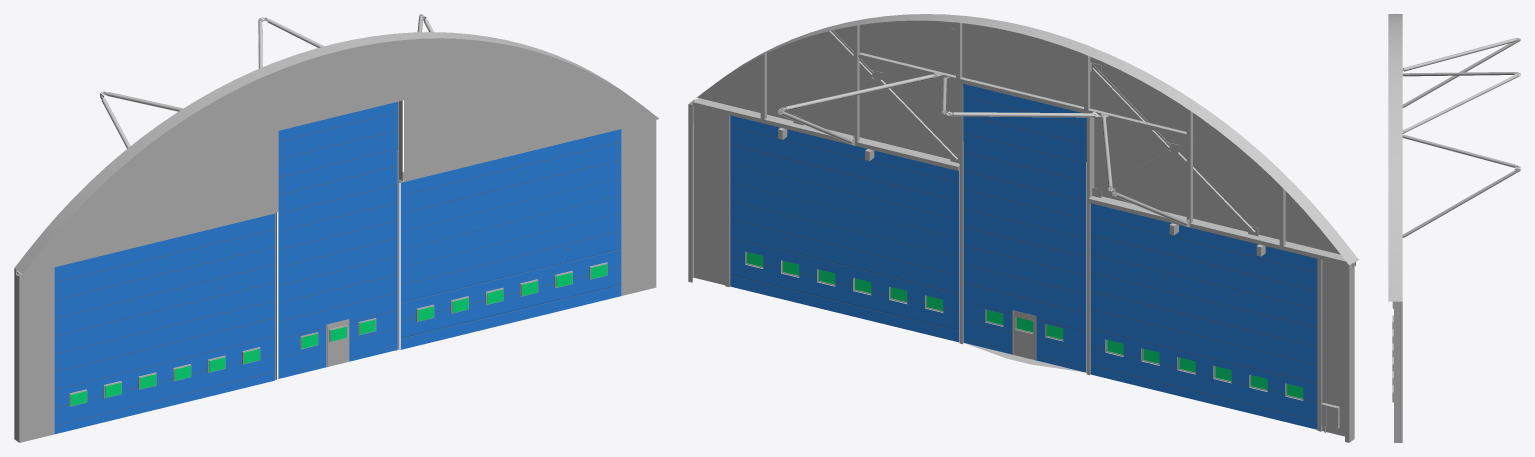
The model's file is mesh_wall_3.fbx.
The picture shows the model from 3 angles, left to right: view 1: azimuth 30°, elevation 25°; view 2: azimuth 150°, elevation 25°; view 3: azimuth 270°, elevation 25°; orthographic projection. The views are drawn at different scales.
Visible parts, largest first — view 1: mesh_wall.001, Object005.001; view 2: mesh_wall.001, Object005.001; view 3: mesh_wall.001.
Part boxes in pixels (x1=…): mesh_wall.001: x1=14, y1=14, x2=659, y2=442; Object005.001: x1=70, y1=264, x2=607, y2=405; mesh_wall.001: x1=688, y1=14, x2=1359, y2=442; Object005.001: x1=747, y1=252, x2=1303, y2=398; mesh_wall.001: x1=1388, y1=14, x2=1520, y2=442.
Bounding box in the file's own units: 5077 × 2412 × 1101.
